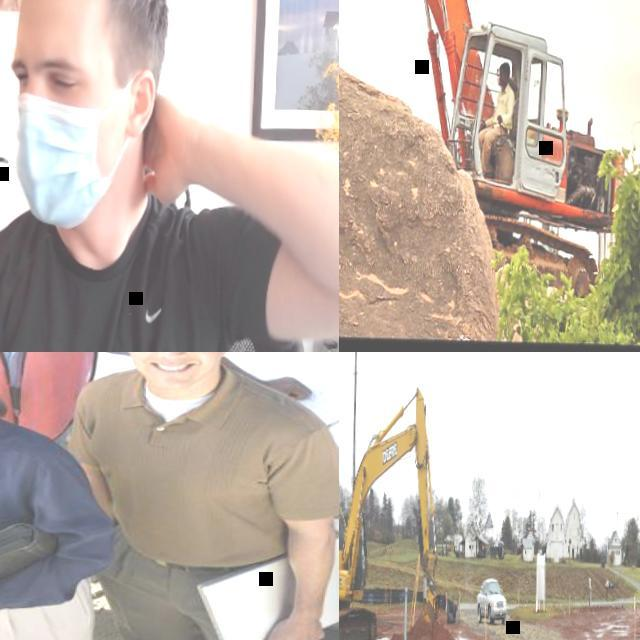vest: (0, 352, 97, 437)
